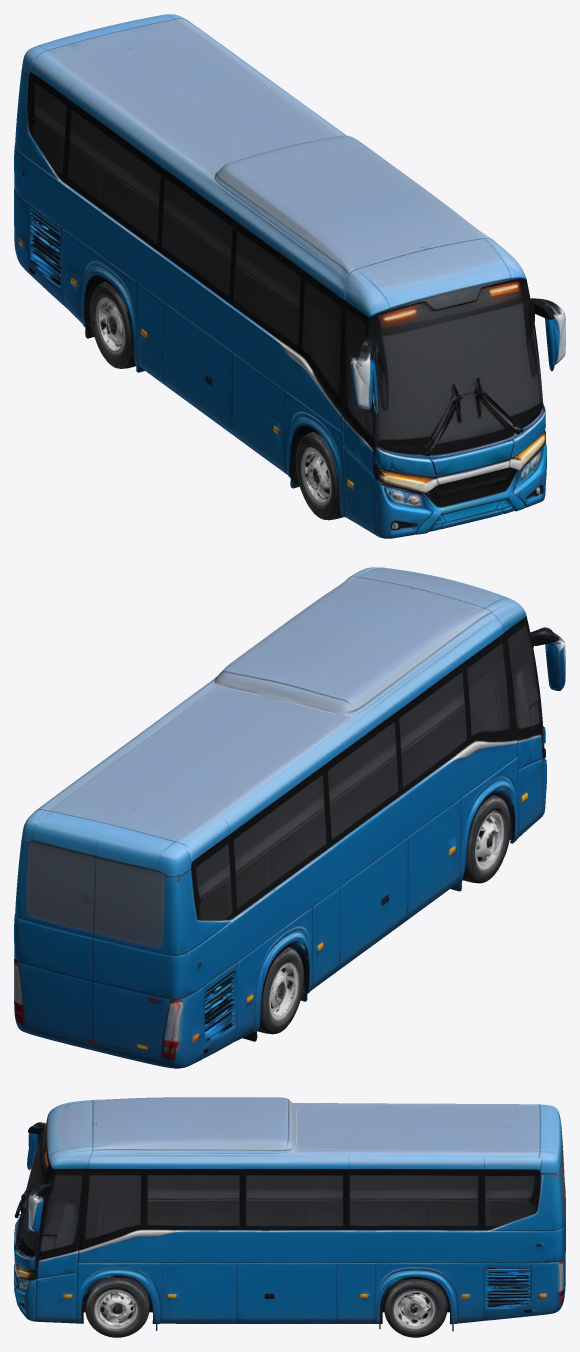
File: bus_1024.glb
The picture shows the model from 3 angles, top to bottom: view 1: azimuth 30°, elevation 25°; view 2: azimuth 150°, elevation 25°; view 3: azimuth 270°, elevation 25°; orthographic projection. The views are drawn at different scales.
Visible parts, largest first — view 1: node_0; view 2: node_0; view 3: node_0.
Part boxes in pixels (bbox=[...]): node_0: bbox=[14, 14, 565, 538]; node_0: bbox=[14, 567, 565, 1068]; node_0: bbox=[14, 1097, 565, 1337].
Size of the model in its own units: 0.3671 by 0.4388 by 1.15.
1 material, 1 textured.
